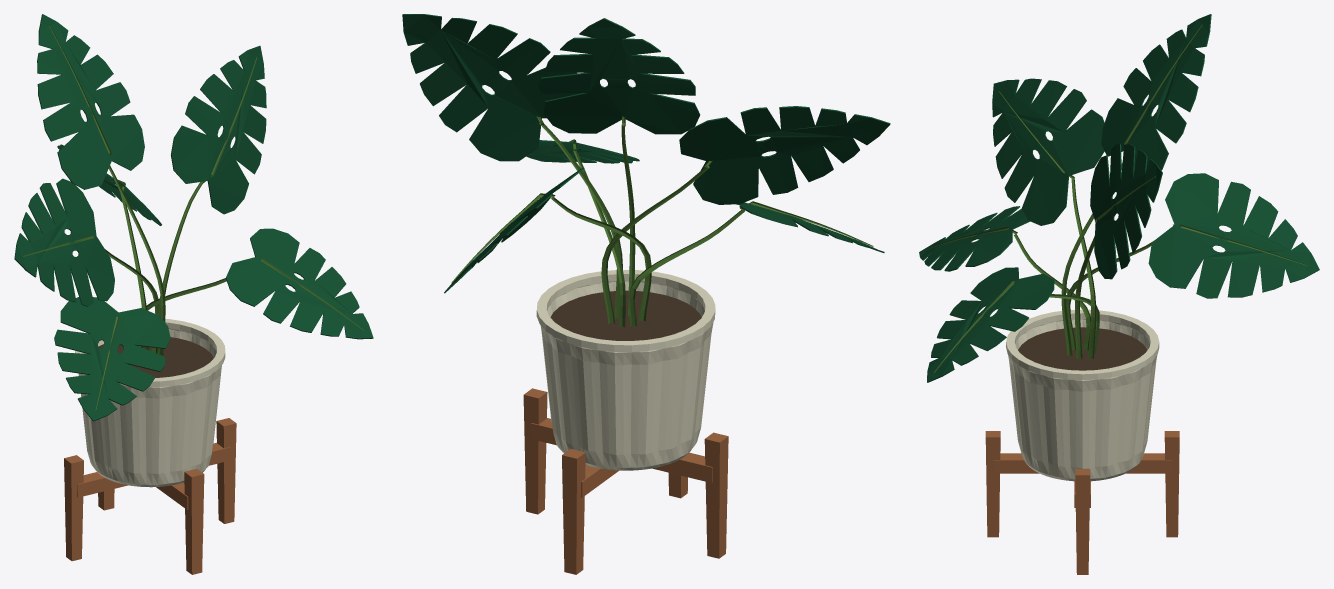
3 renders of one model, left to right at view 1: azimuth 30°, elevation 25°; view 2: azimuth 150°, elevation 25°; view 3: azimuth 270°, elevation 25°, orthographic. The views are drawn at different scales.
Parts seen in each view (by area): view 1: body, monstera.leaf_1.blade, monstera.leaf_2.blade, monstera.leaf_5.blade, monstera.leaf_4.blade, monstera.leaf_3.blade, leg (×3), taper (×3), monstera.soil, monstera.rim, member-0, monstera.leaf_6.blade; view 2: body, monstera.leaf_2.blade, monstera.leaf_1.blade, monstera.leaf_3.blade, leg (×3), taper (×6), monstera.soil, monstera.rim, monstera.leaf_4.blade, member-0, monstera.leaf_6.blade, monstera.leaf_5.blade; view 3: body, monstera.leaf_6.blade, monstera.leaf_3.blade, monstera.leaf_1.blade, monstera.leaf_4.blade, monstera.leaf_2.blade, leg (×3), monstera.leaf_5.blade, monstera.soil, monstera.rim, taper (×4), member-1 (+1 smaller).
Boxes of the visible parts, x1,y1,x2,y2 form: body: (78,328,221,487); monstera.leaf_1.blade: (37,14,144,189); monstera.leaf_2.blade: (171,45,266,214); monstera.leaf_5.blade: (54,297,170,421); monstera.leaf_4.blade: (226,228,373,339); monstera.leaf_3.blade: (14,178,114,306); leg (×3): (64,418,236,574); taper (×3): (108,165,203,368); monstera.soil: (98,337,213,377); monstera.rim: (75,319,225,387); member-0: (77,442,230,497); monstera.leaf_6.blade: (57,144,161,225); body: (540,281,713,470); monstera.leaf_2.blade: (402,14,581,161); monstera.leaf_1.blade: (538,18,700,134); monstera.leaf_3.blade: (679,106,890,204); leg (×3): (523,388,728,574); taper (×6): (539,121,744,327); monstera.soil: (550,290,701,340); monstera.rim: (536,270,715,351); monstera.leaf_4.blade: (526,140,639,163); member-0: (530,418,712,482); monstera.leaf_6.blade: (444,167,584,293); monstera.leaf_5.blade: (736,202,884,252); body: (1008,319,1157,481); monstera.leaf_6.blade: (1148,173,1319,298); monstera.leaf_3.blade: (992,78,1104,225); monstera.leaf_1.blade: (1101,14,1211,170); monstera.leaf_4.blade: (927,267,1054,382); monstera.leaf_2.blade: (1090,144,1162,279); leg (×3): (985,431,1179,574); monstera.leaf_5.blade: (919,206,1030,271); monstera.soil: (1018,327,1147,370); monstera.rim: (1006,309,1159,379); taper (×4): (1014,162,1122,358); member-1: (1126,453,1172,473).
Size of the model in its own units: 0.839 by 1.19 by 0.8686.
